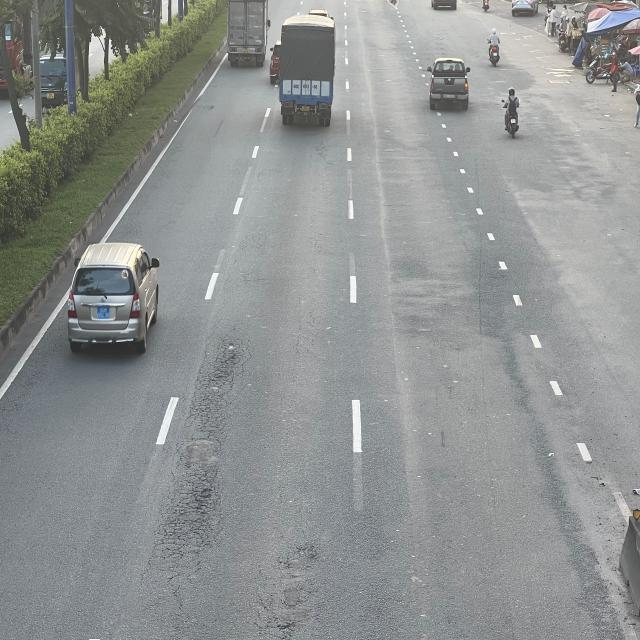car: (69, 240, 163, 354), (424, 55, 470, 108)
truck: (274, 13, 336, 128), (230, 0, 272, 67)
